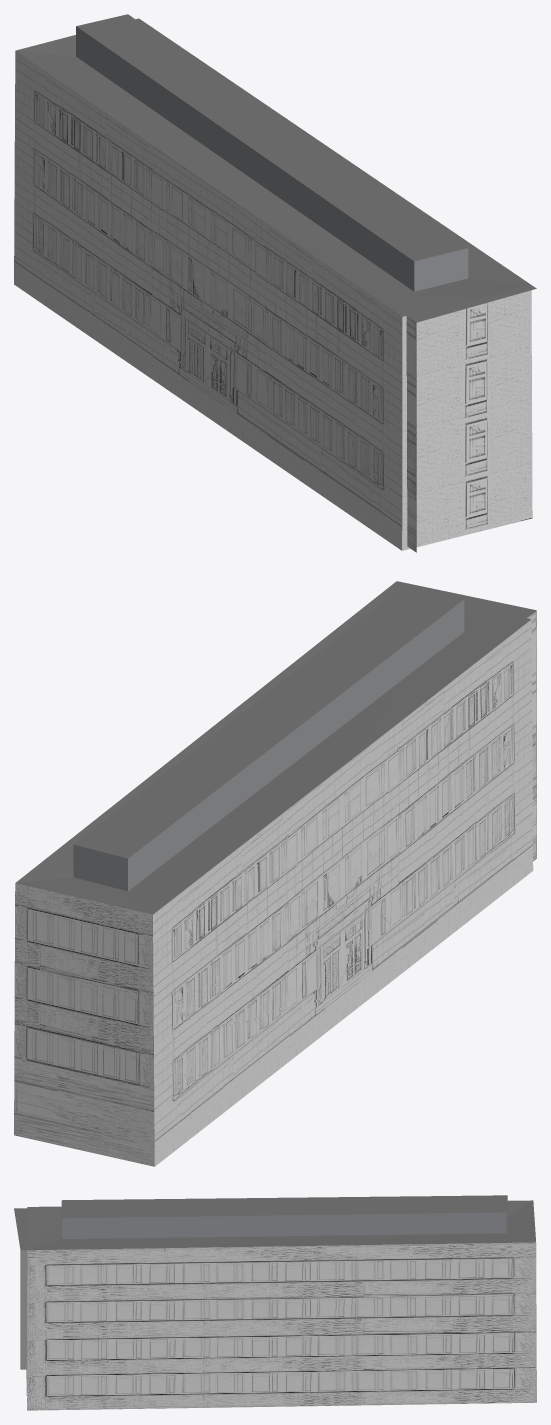
File: Walther-Hempel-Bau.gltf
3 views of the same model, one above another, from view 1: azimuth 30°, elevation 25°; view 2: azimuth 150°, elevation 25°; view 3: azimuth 270°, elevation 25° (orthographic). The views are drawn at different scales.
Parts seen in each view (by area): view 1: Dach.1; view 2: Dach.1; view 3: Dach.1.
Part boxes in pixels (x1,y1,x2,y2): Dach.1: (14,14,536,552); Dach.1: (14,581,536,1166); Dach.1: (14,1195,536,1410).
Size of the model in its own units: 17.16 by 28.7 by 75.65.
8 materials, 5 textured.
